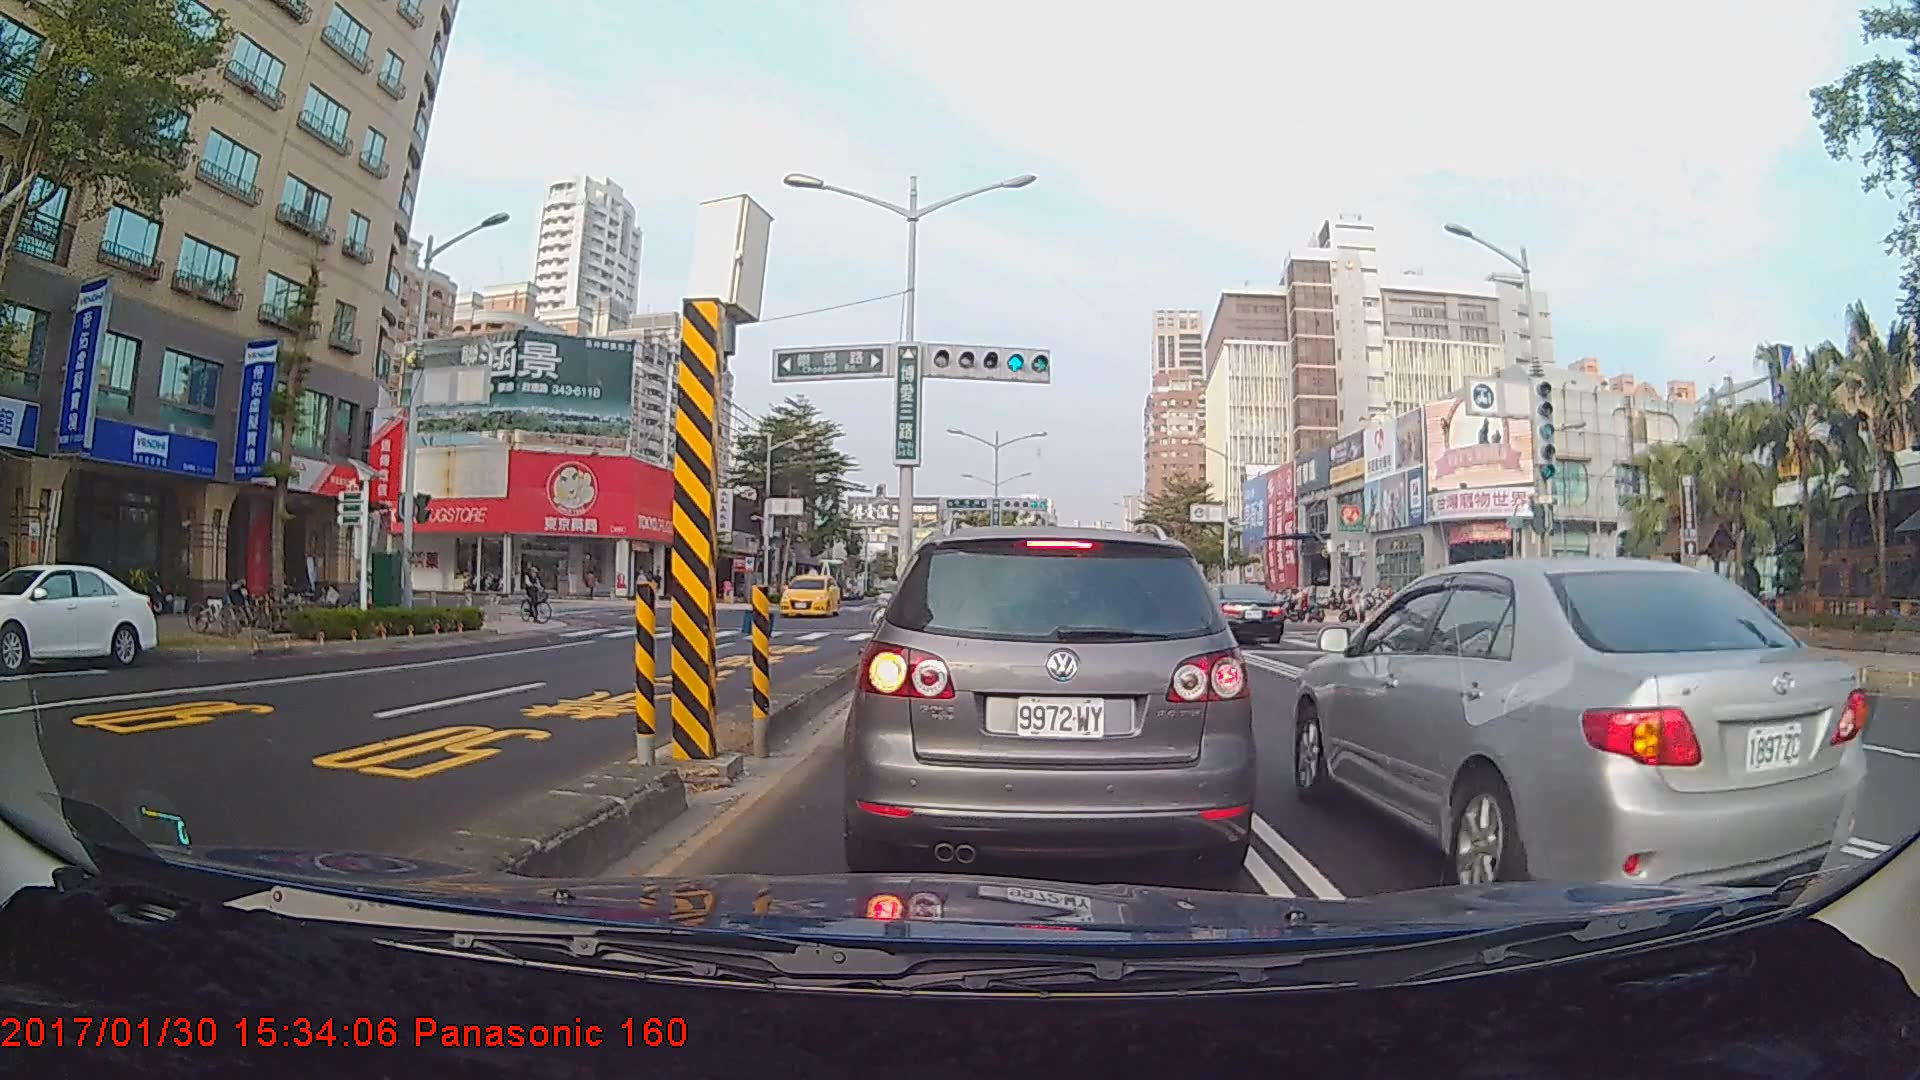rider: (518, 559, 561, 629)
vehicle: (1289, 552, 1876, 890), (855, 522, 1249, 872), (0, 561, 162, 671), (1191, 581, 1284, 646), (776, 575, 839, 619)
